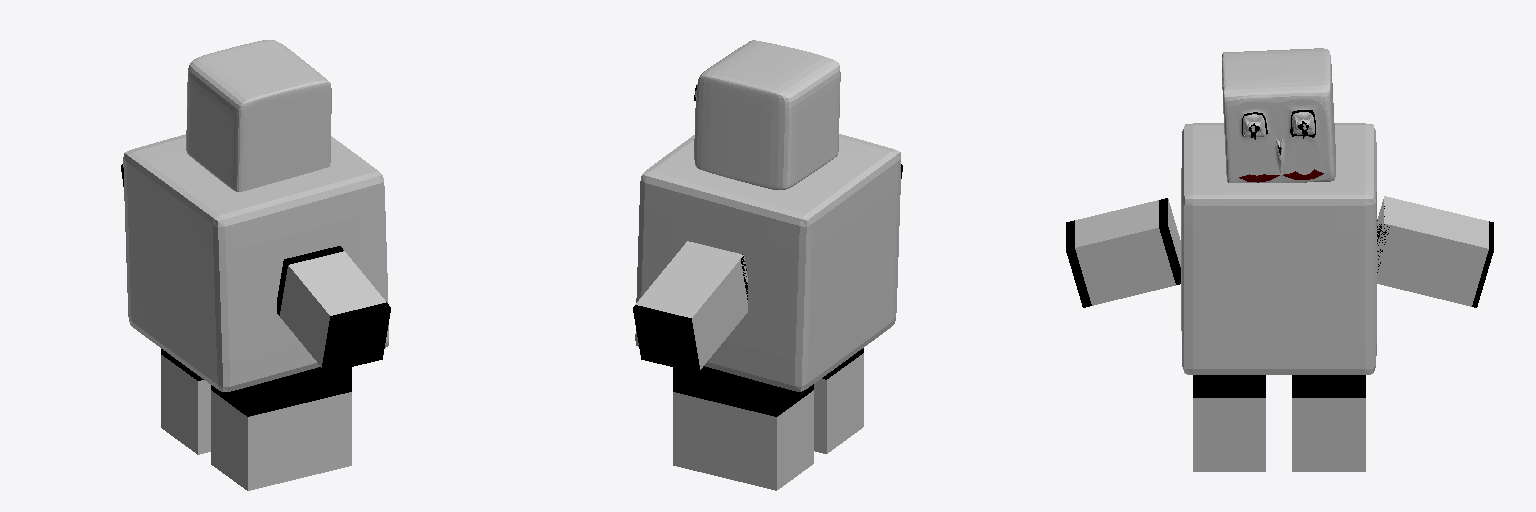
3 renders of one model, left to right at view 1: azimuth 30°, elevation 25°; view 2: azimuth 150°, elevation 25°; view 3: azimuth 270°, elevation 25°, orthographic.
Visible parts, largest first — view 1: Cube_Cube.001, Cube.001_Cube.002, Cube.002_Cube.003, Cube.005_Cube.007, Cube.003_Cube.004; view 2: Cube_Cube.001, Cube.001_Cube.002, Cube.003_Cube.004, Cube.004_Cube.005, Cube.002_Cube.003; view 3: Cube_Cube.001, Cube.001_Cube.002, Cube.004_Cube.005, Cube.005_Cube.007, Cube.003_Cube.004, Cube.002_Cube.003.
Part boxes in pixels (x1,y1,x2,y2): Cube_Cube.001: (123, 134, 388, 391); Cube.001_Cube.002: (186, 40, 331, 191); Cube.002_Cube.003: (211, 367, 351, 490); Cube.005_Cube.007: (277, 246, 390, 372); Cube.003_Cube.004: (161, 349, 210, 454); Cube_Cube.001: (635, 134, 900, 391); Cube.001_Cube.002: (694, 40, 840, 189); Cube.003_Cube.004: (673, 366, 813, 490); Cube.004_Cube.005: (633, 241, 747, 372); Cube.002_Cube.003: (814, 348, 863, 453); Cube_Cube.001: (1181, 123, 1376, 374); Cube.001_Cube.002: (1222, 48, 1335, 182); Cube.004_Cube.005: (1377, 196, 1493, 307); Cube.005_Cube.007: (1066, 198, 1180, 307); Cube.003_Cube.004: (1292, 375, 1365, 471); Cube.002_Cube.003: (1193, 375, 1265, 471).
Size of the model in its own units: 1.5 by 3.14 by 3.19.